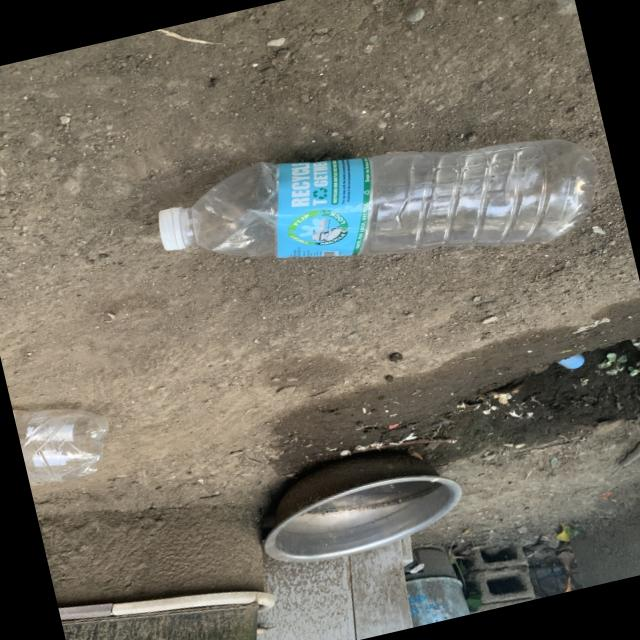Bottle: (158, 138, 598, 257)
